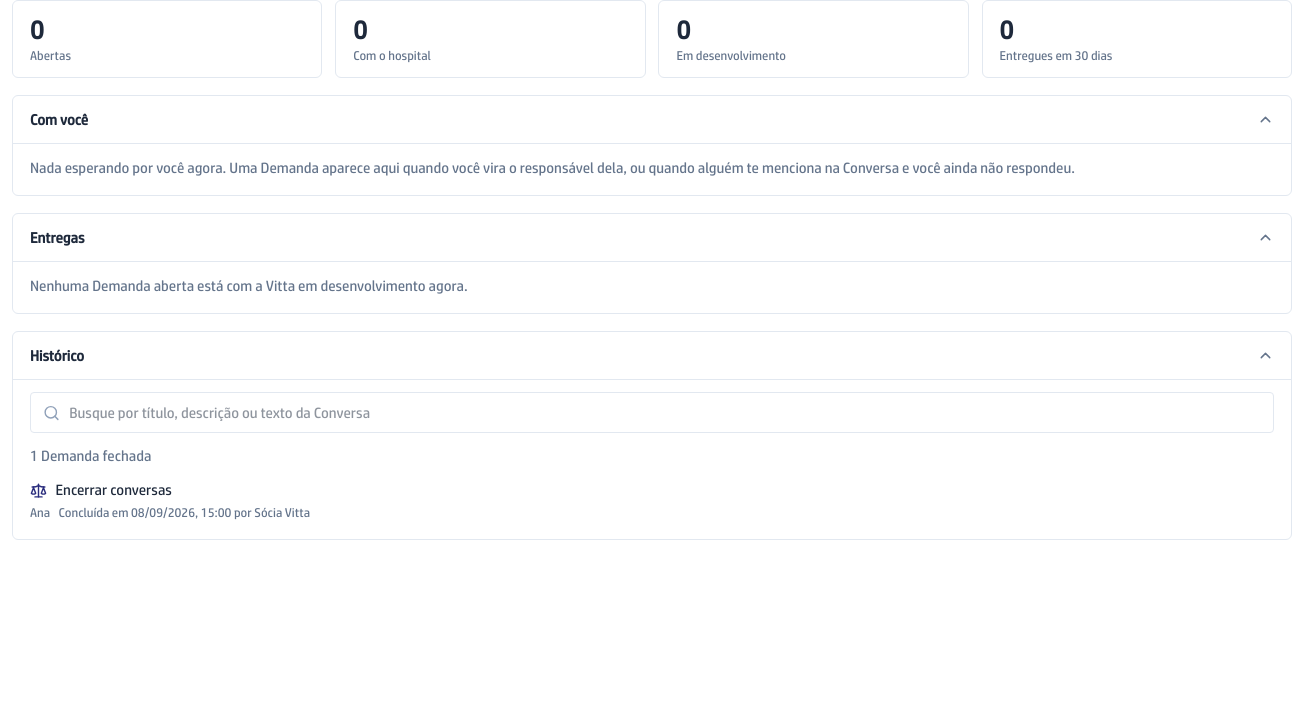
Histórico › a busca sem resultado cita o termo procurado
Expected: the text "Encerrar conversas" is shown, [56,480,172,501]
In the search field named "Buscar no Histórico": (652, 413) [30,392,1274,433], type "ouvidoria"
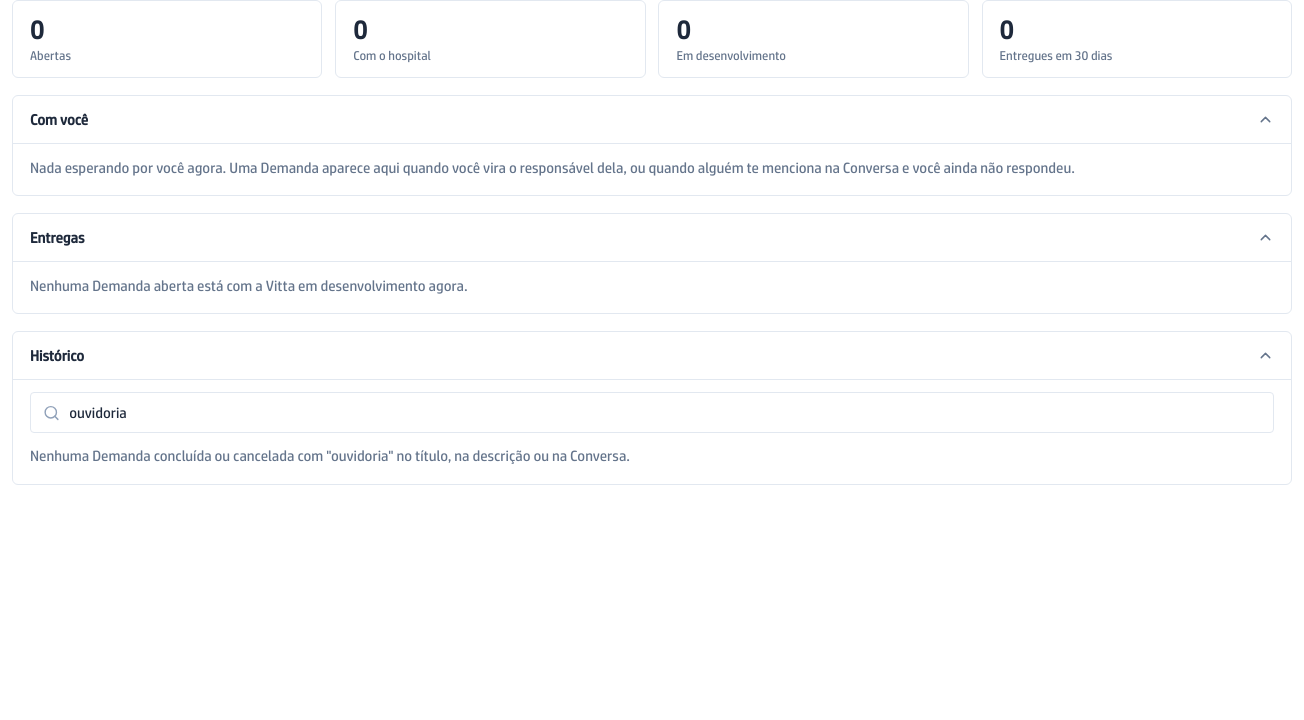
Now the text "\"ouvidoria\"" is shown, box [30,448,630,464]
